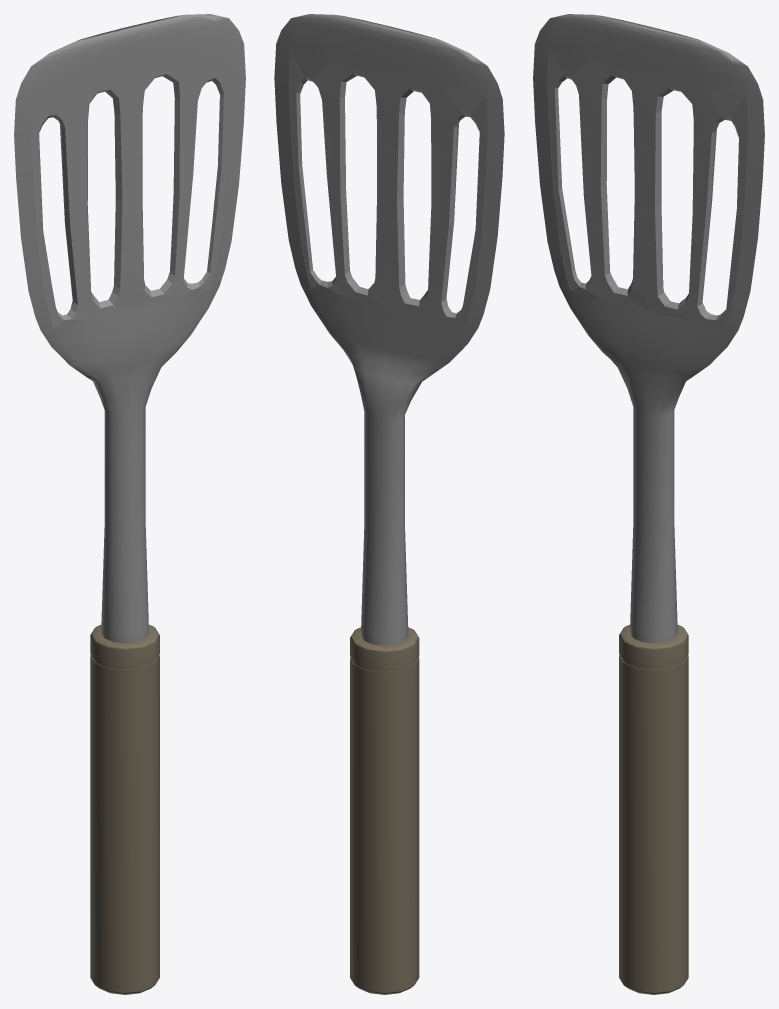
3 views of the same model, side by side, from view 1: azimuth 30°, elevation 25°; view 2: azimuth 150°, elevation 25°; view 3: azimuth 330°, elevation 25° (orthographic).
Parts seen in each view (by area): view 1: pCylinder11; view 2: pCylinder11; view 3: pCylinder11.
Boxes of the visible parts, x1=… form: pCylinder11: x1=14, y1=14, x2=245, y2=994; pCylinder11: x1=274, y1=14, x2=504, y2=994; pCylinder11: x1=533, y1=14, x2=764, y2=994.
Bounding box in the file's own units: 1.86 × 7.34 × 0.4841.
